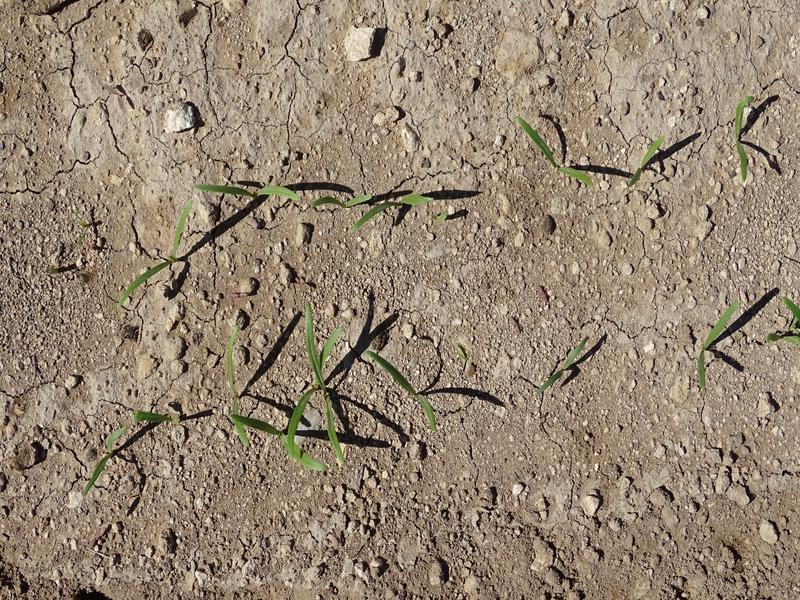Espinaca: (292, 309, 357, 473), (119, 198, 195, 304), (363, 349, 445, 439), (509, 113, 596, 194), (686, 293, 744, 388), (316, 185, 433, 230), (78, 422, 129, 491), (188, 176, 300, 204), (540, 337, 594, 394), (729, 94, 757, 184), (625, 135, 664, 187)
